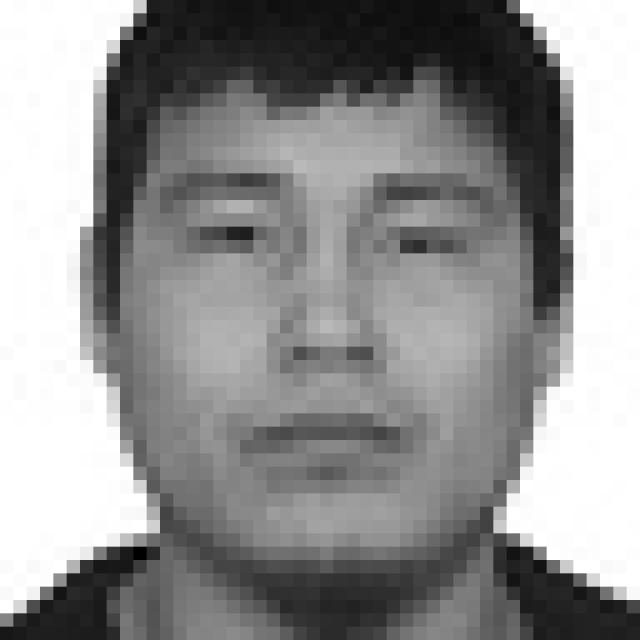neutral: (151, 154, 516, 489)
